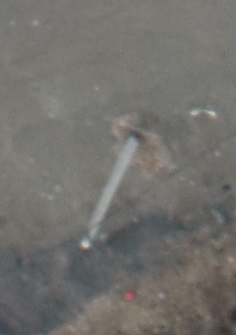opora: (73, 131, 142, 256)
